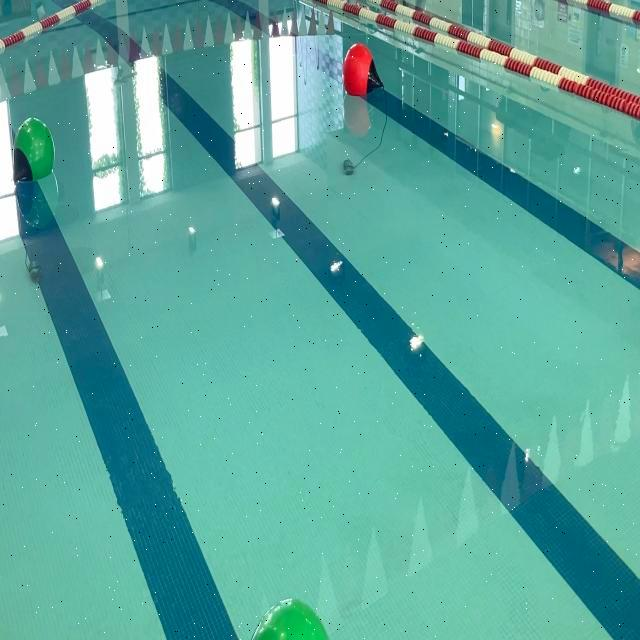buoy: (246, 595, 331, 640), (12, 115, 56, 185), (342, 41, 385, 98)
